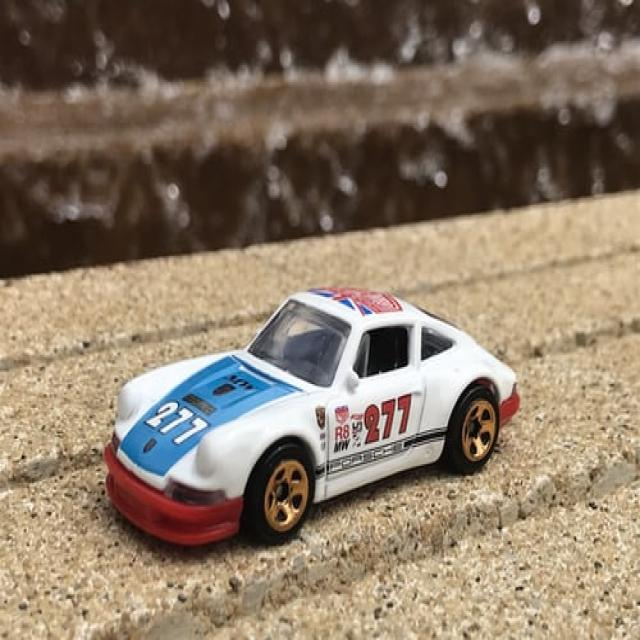Car: (102, 283, 520, 546)
